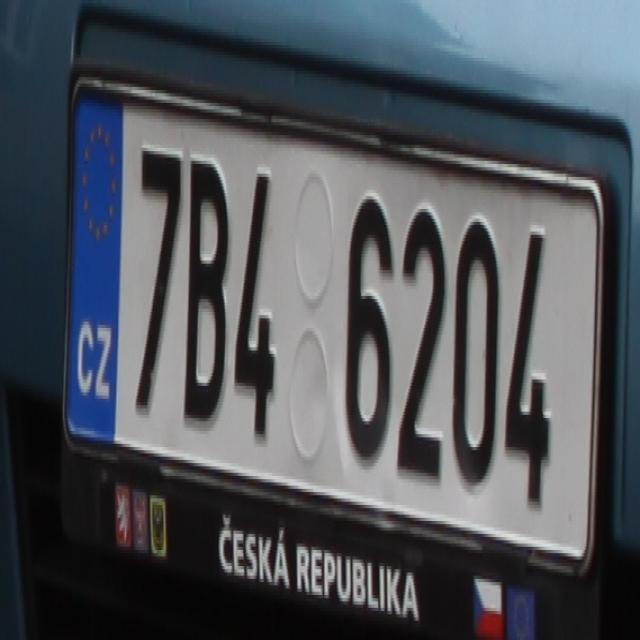0: (450, 212, 500, 489)
2: (397, 192, 445, 482)
4: (504, 219, 554, 505), (235, 154, 284, 440)
6: (341, 190, 394, 463)
7: (132, 138, 182, 418)
B: (184, 148, 224, 424)
